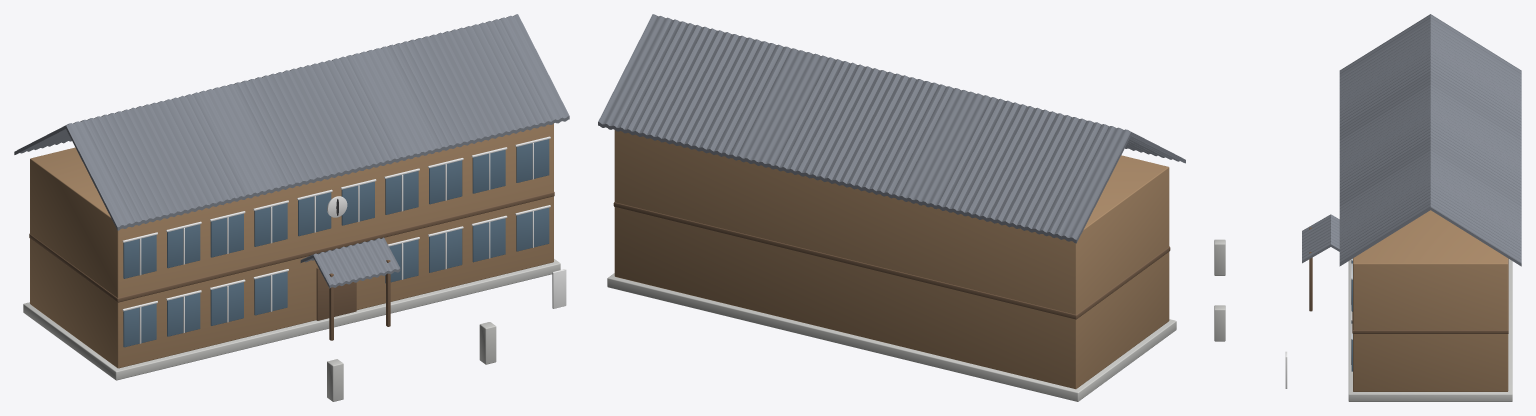
Rendered from kousha.glb.
The picture shows the model from 3 angles, left to right: view 1: azimuth 30°, elevation 25°; view 2: azimuth 150°, elevation 25°; view 3: azimuth 270°, elevation 25°; orthographic projection. The views are drawn at different scales.
Visible parts, largest first — view 1: kousha; view 2: kousha; view 3: kousha.
Boxes of the visible parts, left/top/right/bottom form: kousha: left=14, top=14, right=569, bottom=401; kousha: left=598, top=14, right=1185, bottom=401; kousha: left=1214, top=14, right=1521, bottom=401.
Size of the model in its own units: 20.72 by 9.8 by 13.85.
